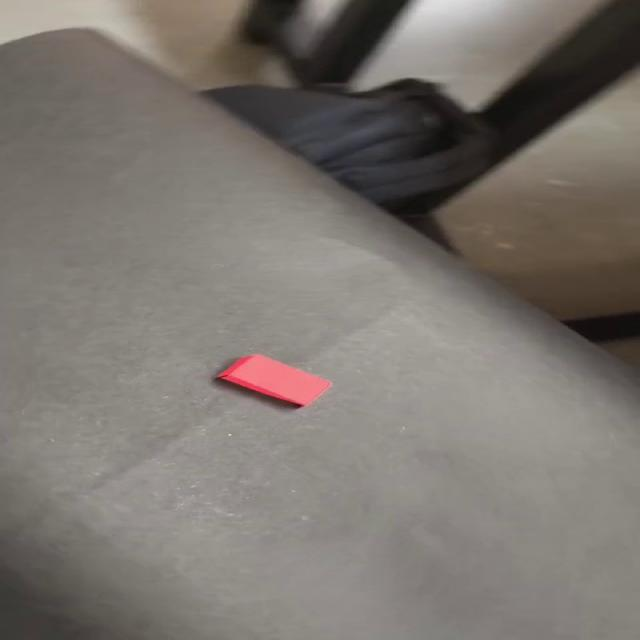red block: (215, 352, 332, 408)
